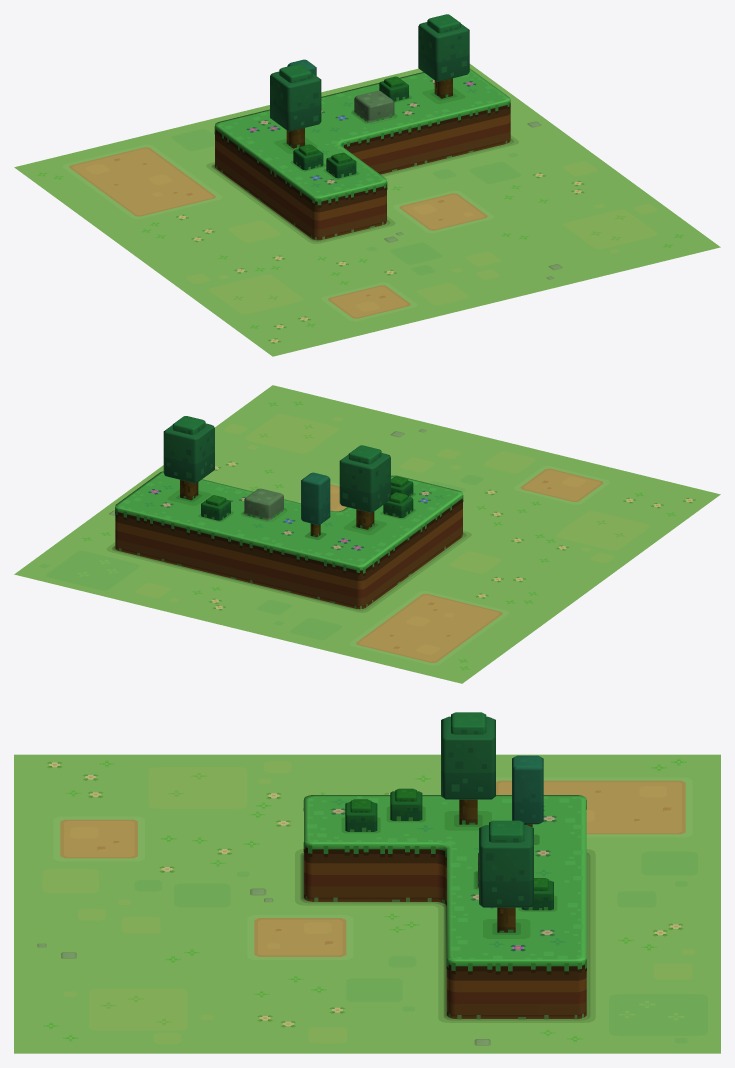
The model's file is C_grass1_07.fbx.
The picture shows the model from 3 angles, top to bottom: view 1: azimuth 30°, elevation 25°; view 2: azimuth 150°, elevation 25°; view 3: azimuth 270°, elevation 25°; orthographic projection. The views are drawn at different scales.
Parts seen in each view (by area): view 1: C_grass1_07; view 2: C_grass1_07; view 3: C_grass1_07.
Part boxes in pixels (box(x1,y1,x2,y2)): C_grass1_07: box(14, 14, 720, 356); C_grass1_07: box(14, 385, 720, 683); C_grass1_07: box(14, 712, 720, 1053).
Bounding box in the file's own units: 50 × 12.68 × 50.
